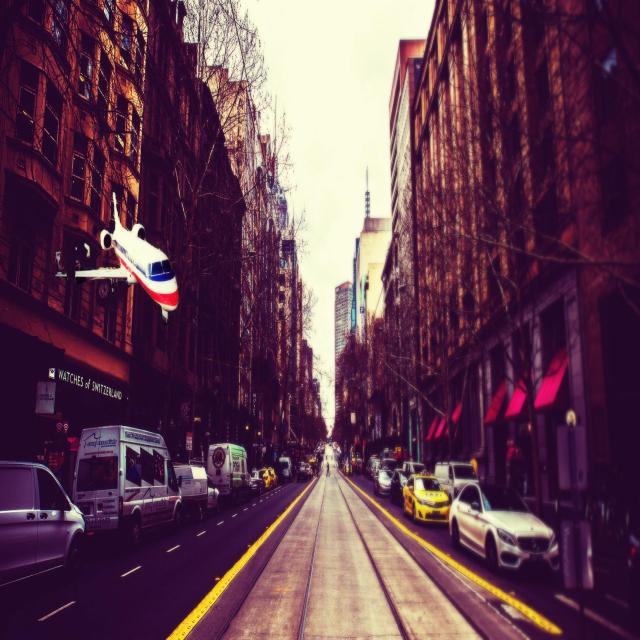airplane: (54, 190, 179, 324)
